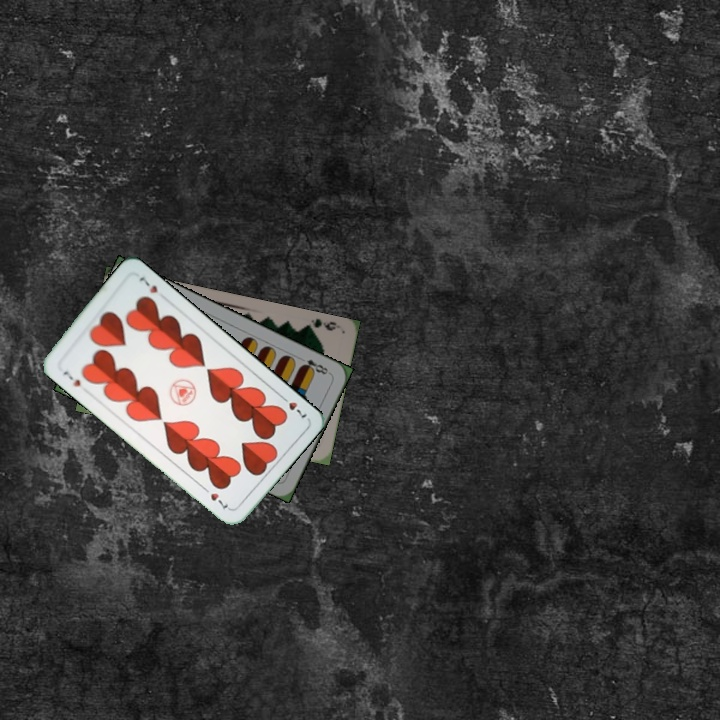E8: (296, 353, 333, 377)
G9: (301, 314, 339, 334)
H7: (276, 391, 309, 422), (59, 367, 83, 389)
